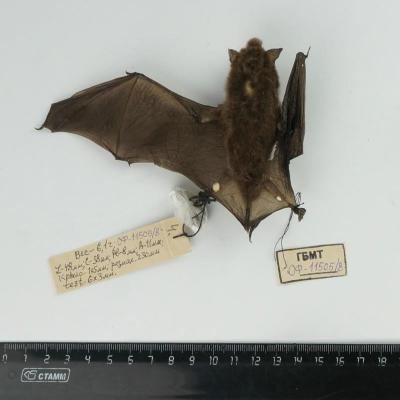natural_science_collection: (42, 38, 308, 238)
